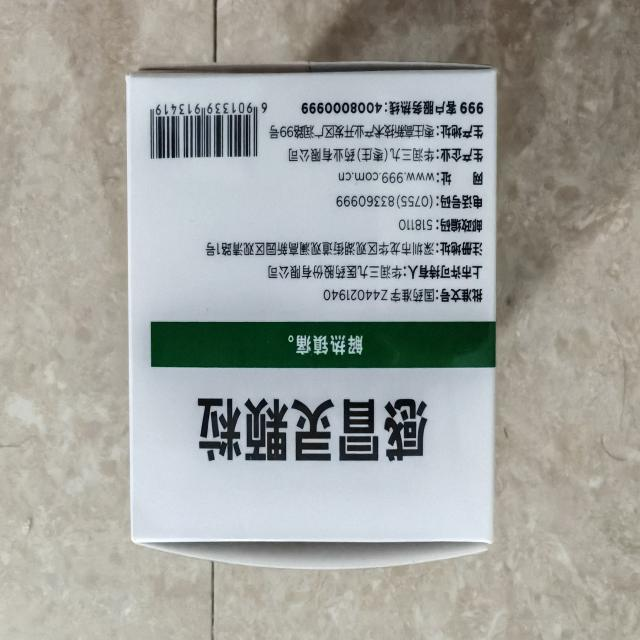box: (118, 54, 509, 577)
